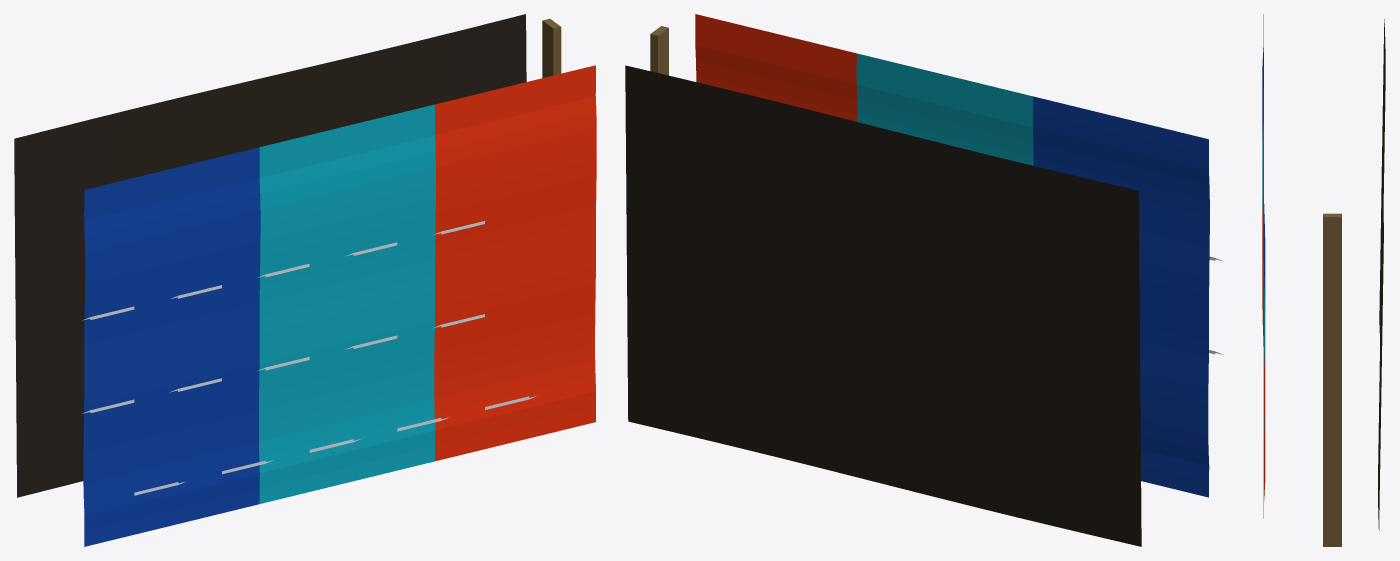
The picture shows the model from 3 angles, left to right: view 1: azimuth 30°, elevation 25°; view 2: azimuth 150°, elevation 25°; view 3: azimuth 270°, elevation 25°; orthographic projection. The views are drawn at different scales.
Parts seen in each view (by area): view 1: oceananigans_shallow_water_front; view 2: oceananigans_shallow_water_front; view 3: oceananigans_shallow_water_front.
Boxes of the visible parts, x1,y1,x2,y2 form: oceananigans_shallow_water_front: [14, 14, 596, 546]; oceananigans_shallow_water_front: [625, 14, 1223, 546]; oceananigans_shallow_water_front: [1262, 14, 1385, 546].
Size of the model in its own units: 12.22 by 8.6 by 3.13.
